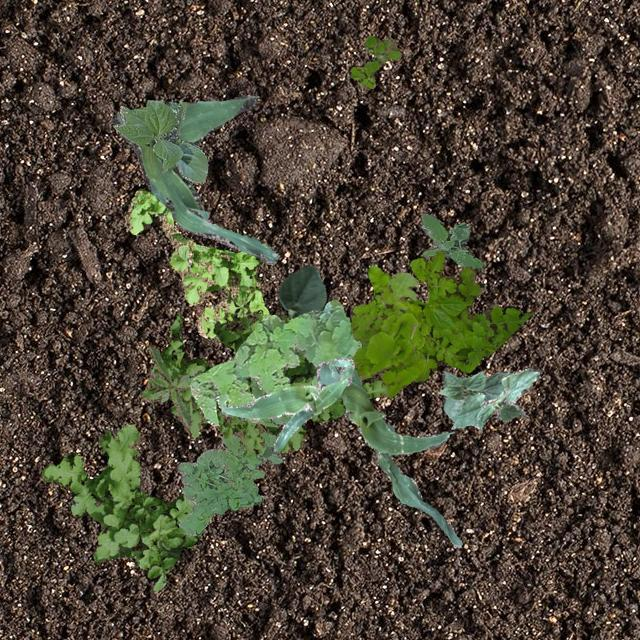crop: (110, 94, 278, 264), (316, 359, 460, 546), (220, 356, 354, 449), (114, 99, 208, 182), (451, 368, 538, 428), (436, 370, 516, 420), (276, 264, 326, 318)
weed: (140, 308, 387, 454), (41, 423, 202, 590), (352, 250, 530, 382), (125, 188, 272, 338), (188, 300, 360, 424), (176, 378, 292, 536), (350, 272, 424, 396), (146, 344, 202, 426), (419, 212, 482, 268), (348, 34, 401, 88)
